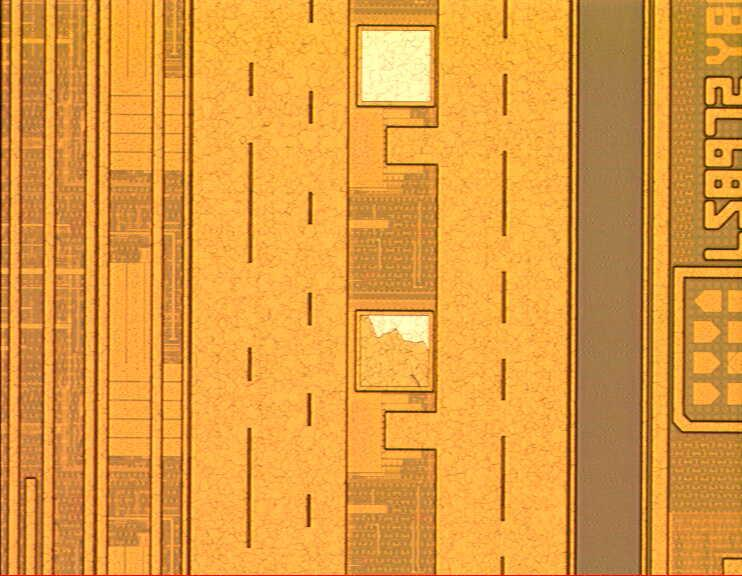BLOCK ETCH: (347, 306, 443, 402)
